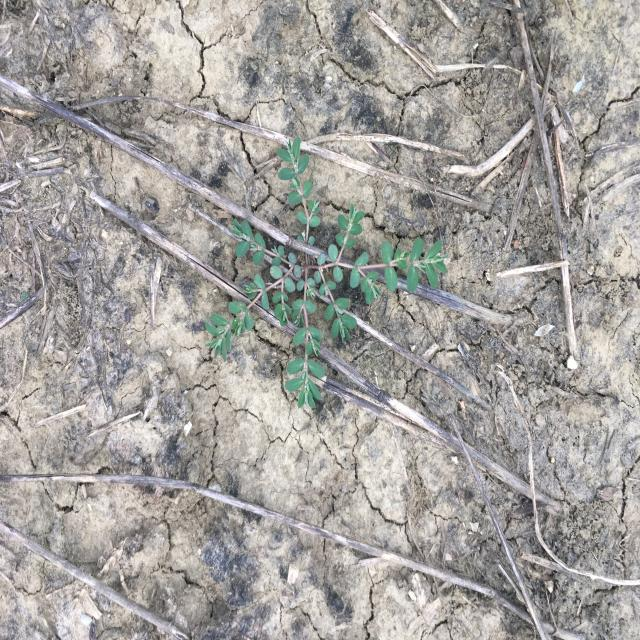SpottedSpurge: (202, 135, 449, 412)
